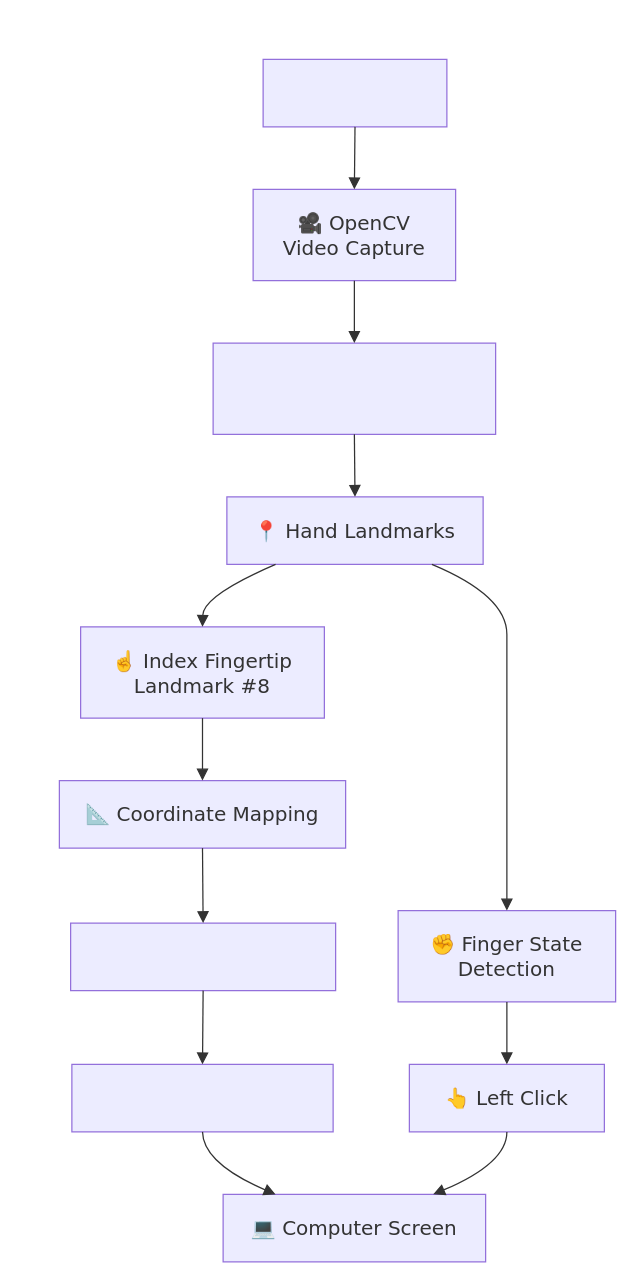
This 638x1284 diagram has some shape labels left out. The shapes that lost their labels are listed below. From the top down, each one's centre as x and y in pixels, then its label:
At [354,92]: "📷 Webcam".
At [354,388]: "🧠 MediaPipe Hands 21 Landmark Detection".
At [202,956]: "〰️ Cursor Smoothing".
At [202,1097]: "🖱️ Mouse Movement".
